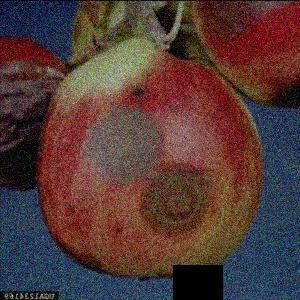rotten apple: (40, 36, 265, 279), (0, 32, 69, 190), (203, 1, 299, 109)
